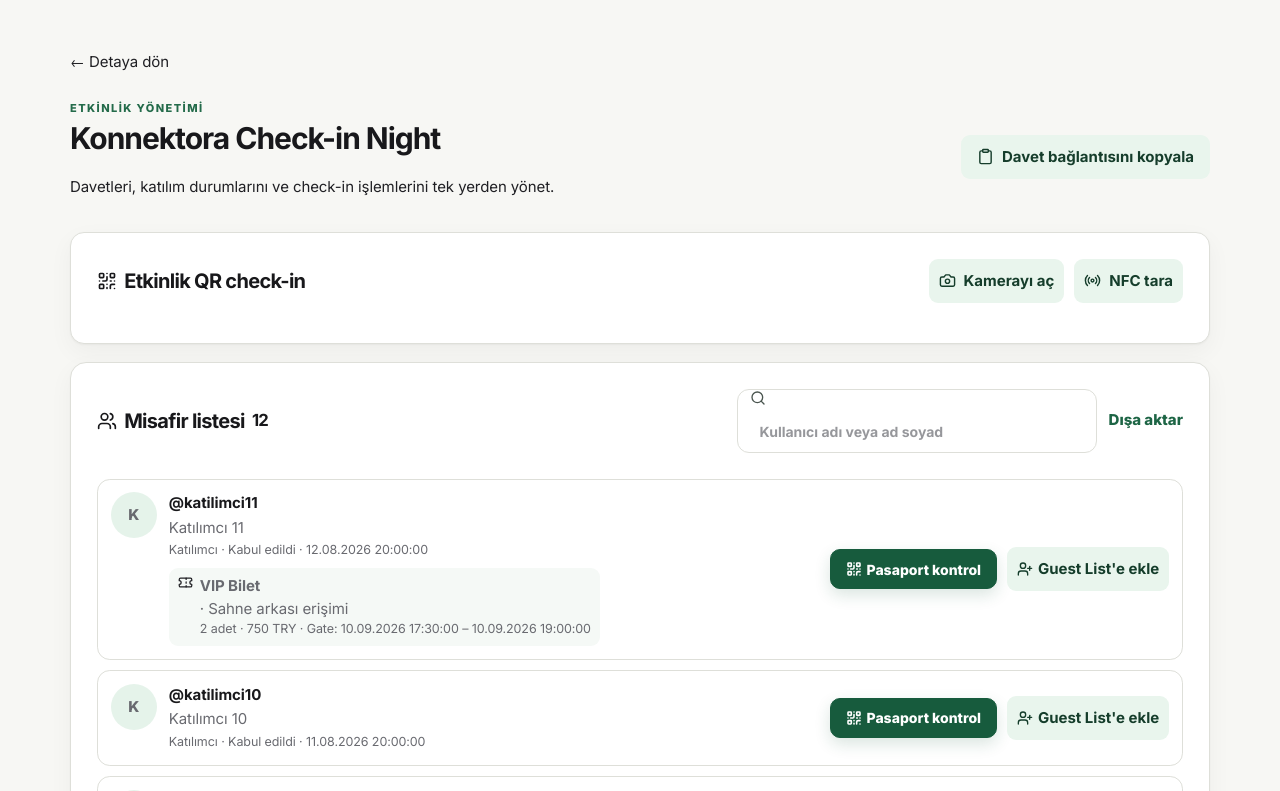
it: check-in yönetimi gereksinimleri › zaten içeride olan kullanıcıyı belirgin uyarıyla gösterir ve ikinci kararı engeller
Click the button "Pasaport kontrol" in the row of "· 12.08.2026 20:00:00" at (913, 569), box [830,549,997,589]
(page scrolled)
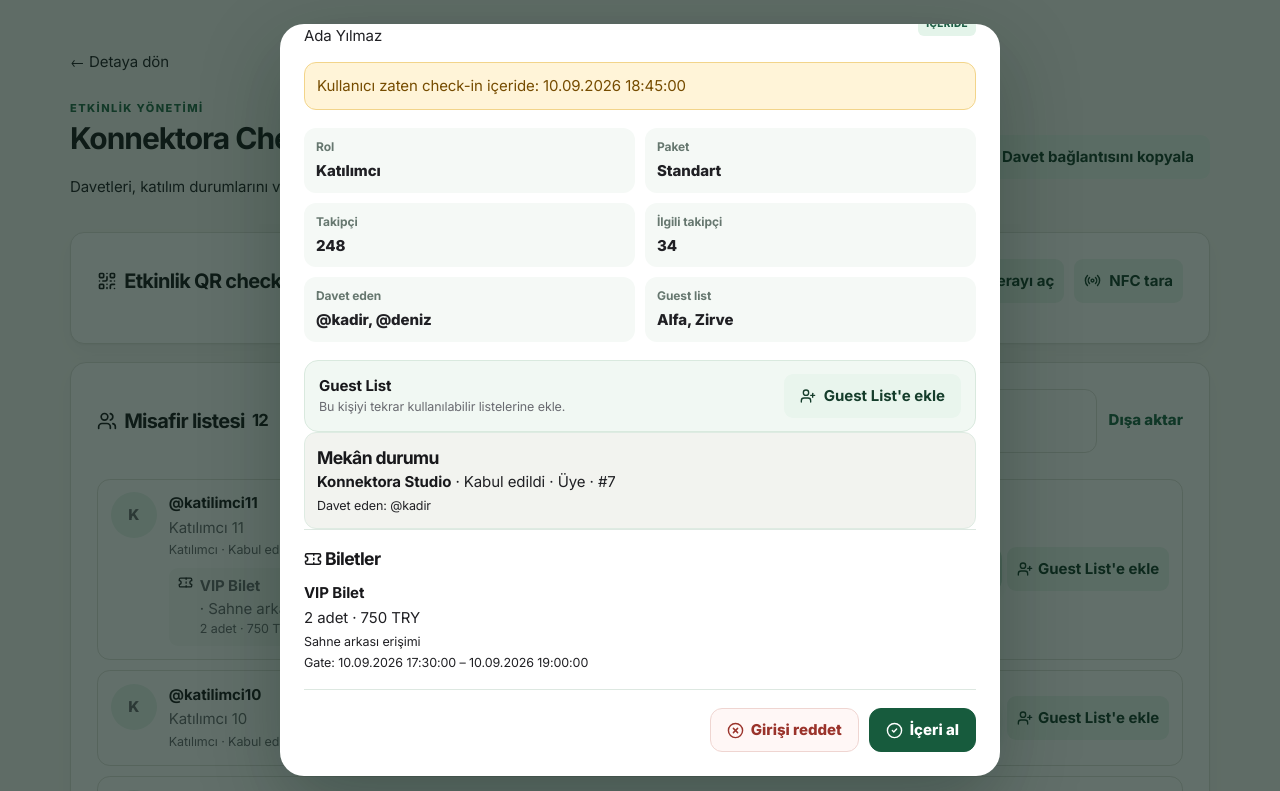
Expected: the text "Kullanıcı zaten check-in içeride: 10.09.2026 18:45:00" is shown, [304,62,976,110]
Expected: the button "İçeri al" is disabled, [869,708,976,752]
Expected: the button "Girişi reddet" is disabled, [710,708,859,752]
